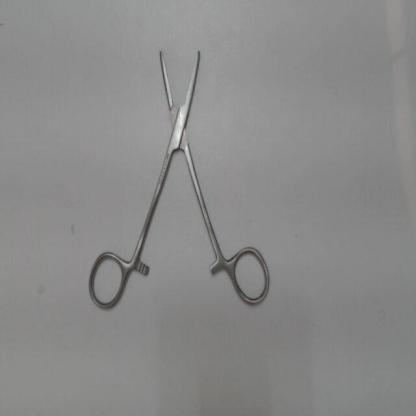Mayo Needle Holder: (81, 32, 274, 316)
